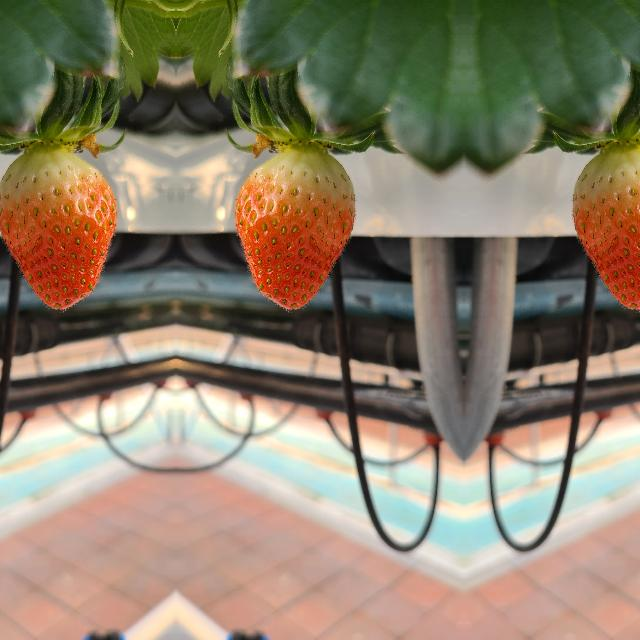Health_75: (233, 152, 355, 312), (0, 151, 117, 312), (571, 151, 640, 312)
